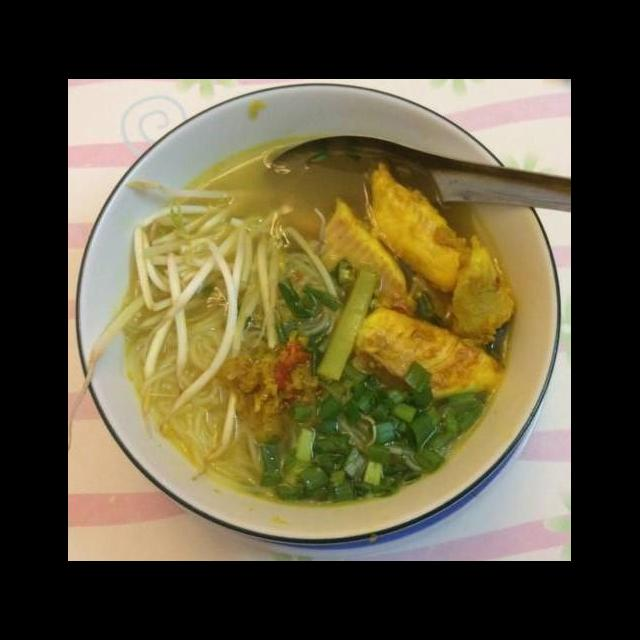bun: (120, 255, 268, 497)
bun ca: (82, 103, 557, 557)
ca: (362, 155, 474, 297), (344, 306, 511, 401), (310, 189, 420, 313), (446, 231, 524, 352)
